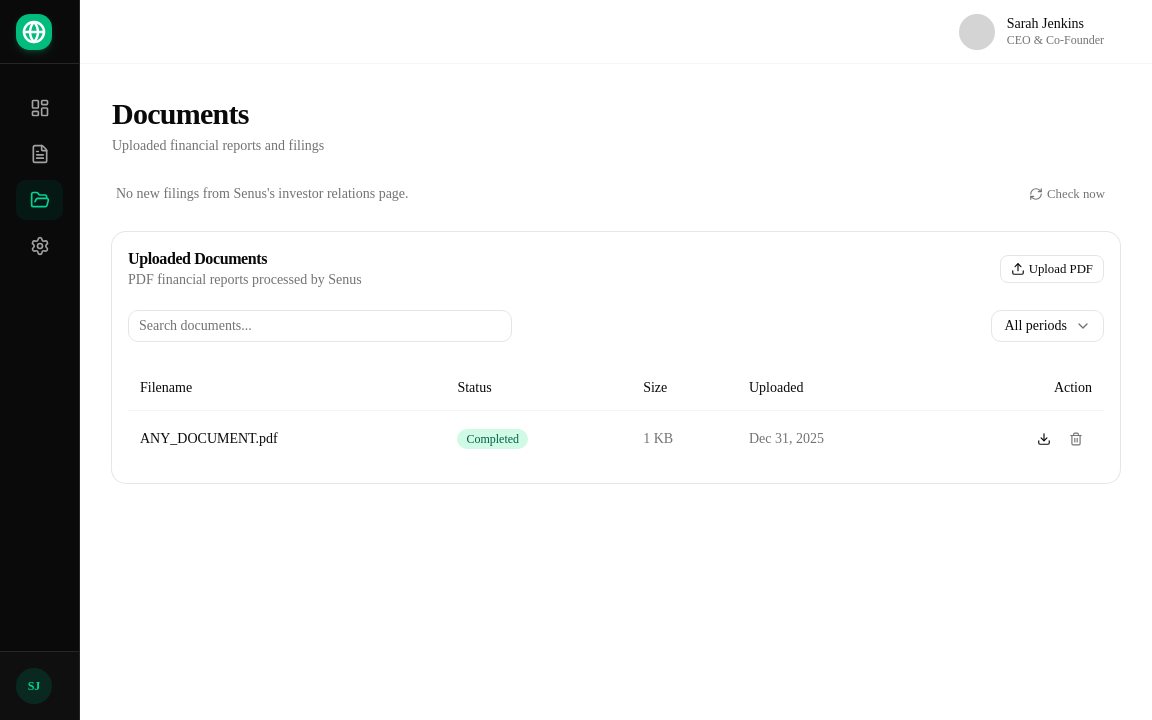
Test: DocumentsPage › shows the backend's specific error message when a download fails
Expected: the text "ANY_DOCUMENT.pdf" is shown, [128,410,445,466]
Click the 1st button named "download any_document.pdf" at [1044, 438], box [1028,422,1060,454]
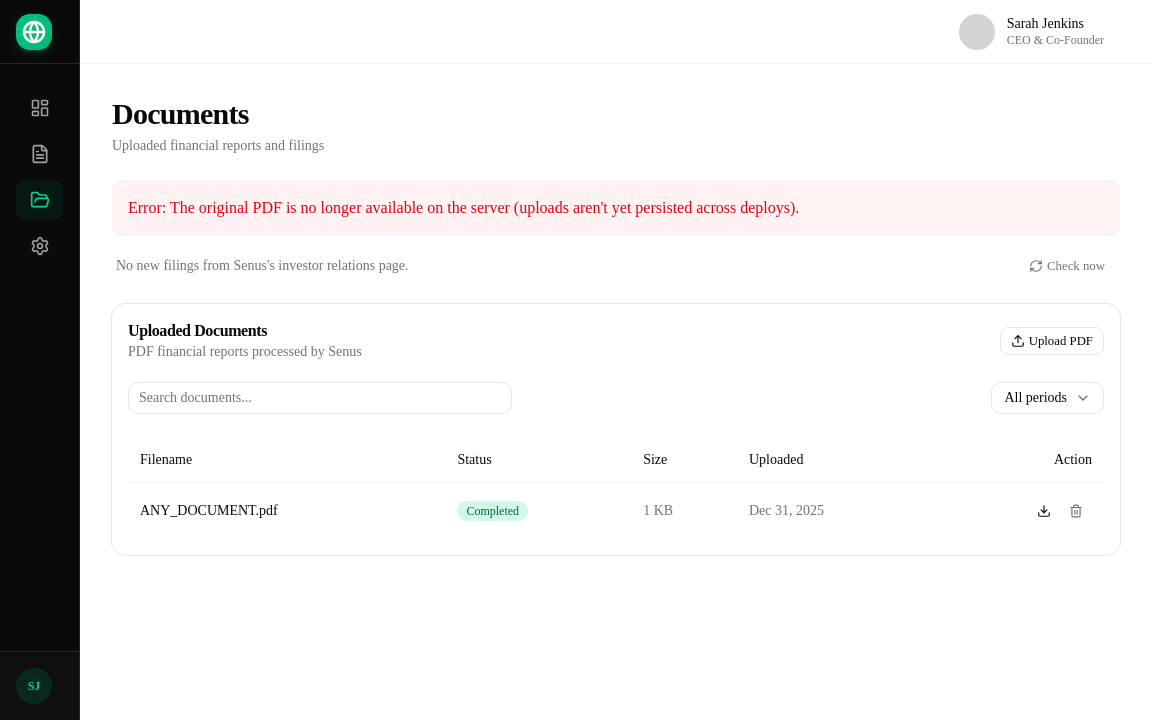
Expected: the text "no longer available on the server" is shown, [170,199,799,216]
